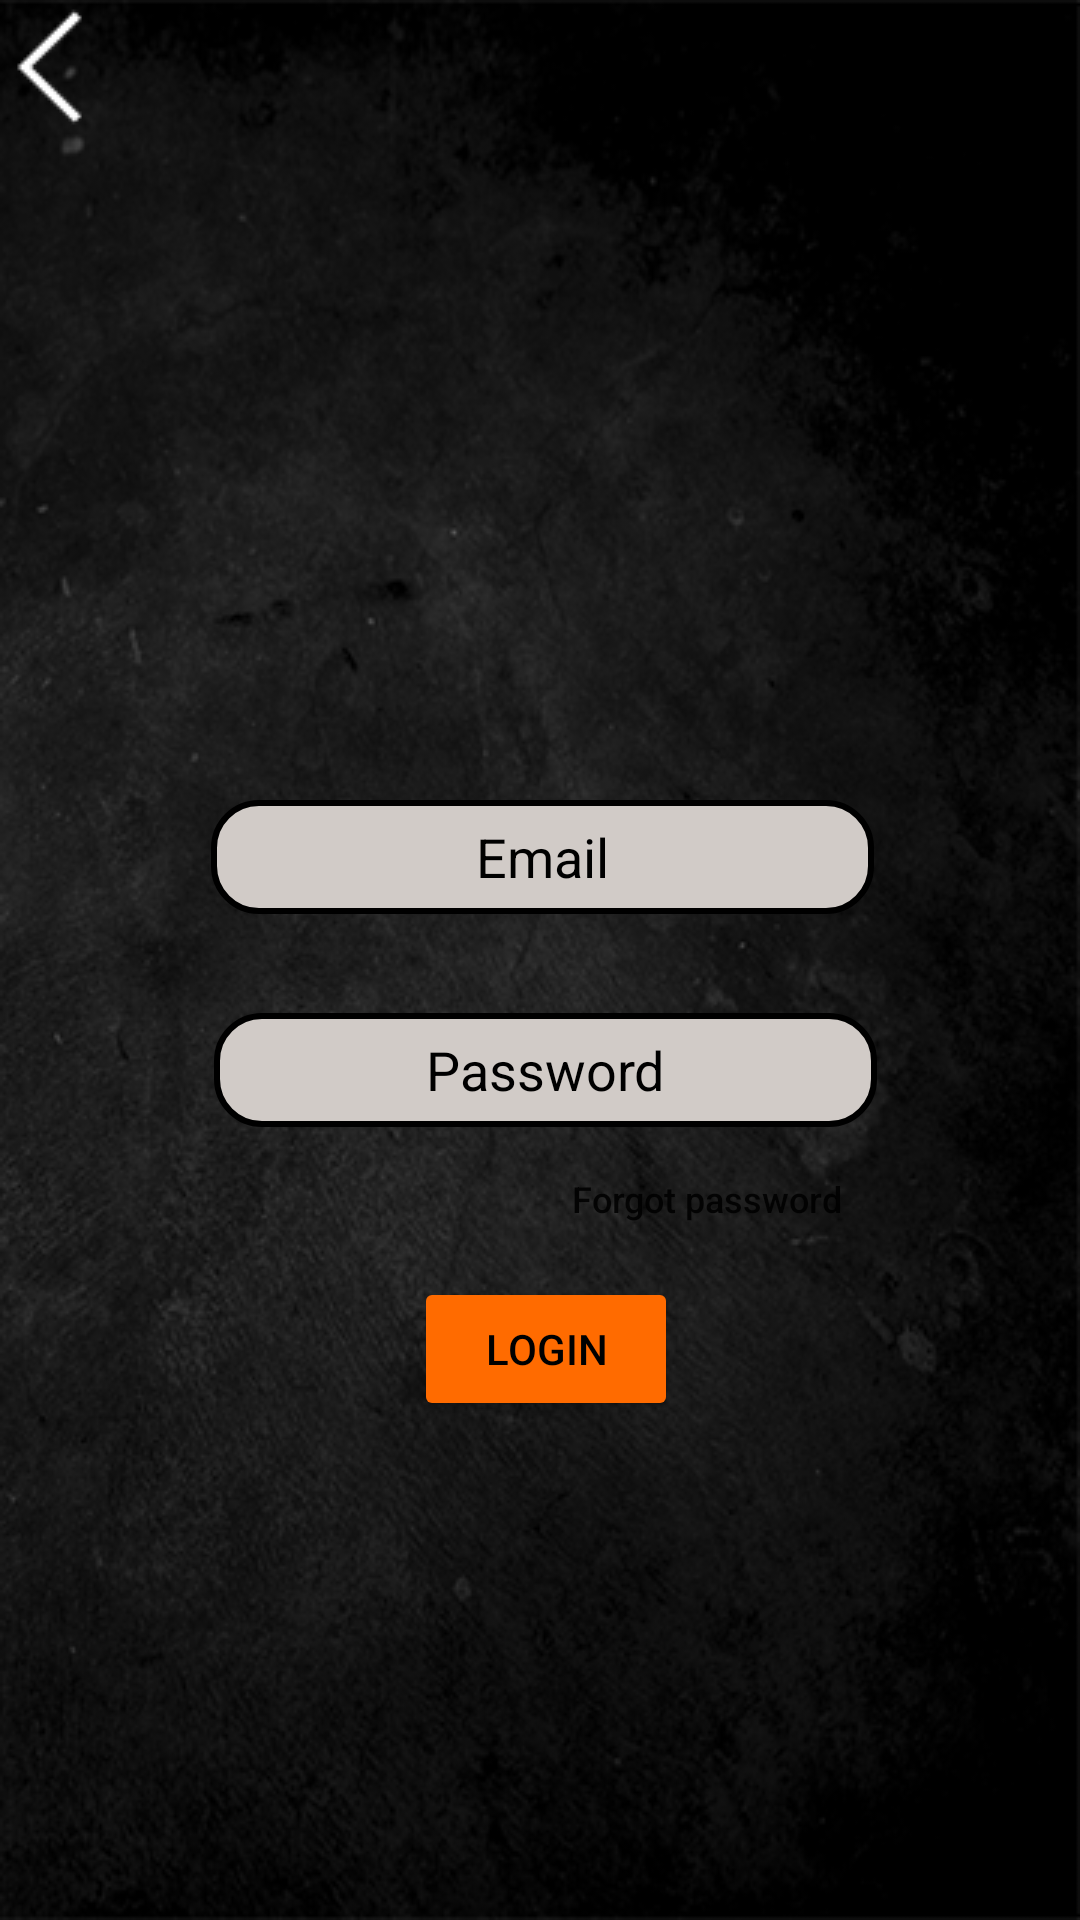

Locate icon controls on the screen. Image size 1080 x 1920, boxes as {"x1": x1, "y1": y1, "x2": x2, "y2": y2}.
backbutton: {"x1": 17, "y1": 10, "x2": 82, "y2": 124}
